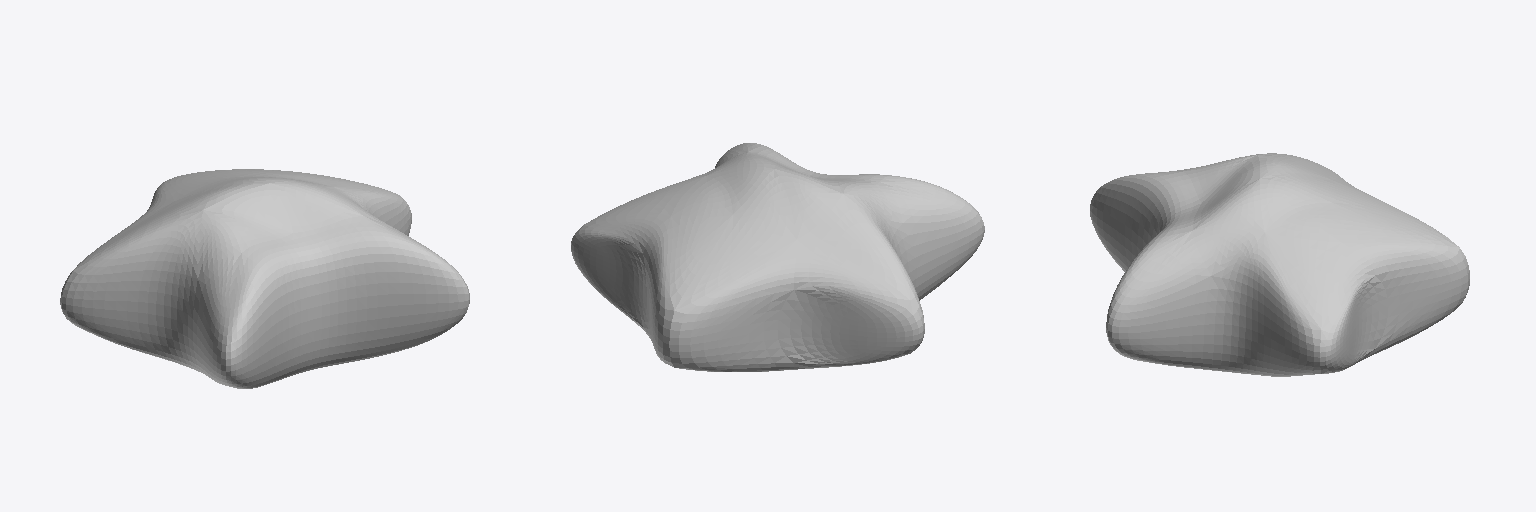
The model's file is Pestrella.obj.
3 renders of one model, left to right at view 1: azimuth 30°, elevation 25°; view 2: azimuth 150°, elevation 25°; view 3: azimuth 270°, elevation 25°, orthographic.
Visible parts, largest first — view 1: Mesh1Group1Model; view 2: Mesh1Group1Model; view 3: Mesh1Group1Model.
Boxes of the visible parts, x1,y1,x2,y2 form: Mesh1Group1Model: [60, 169, 469, 388]; Mesh1Group1Model: [571, 143, 984, 371]; Mesh1Group1Model: [1090, 153, 1469, 376].
Bounding box in the file's own units: 0.8776 × 0.3792 × 0.8264.